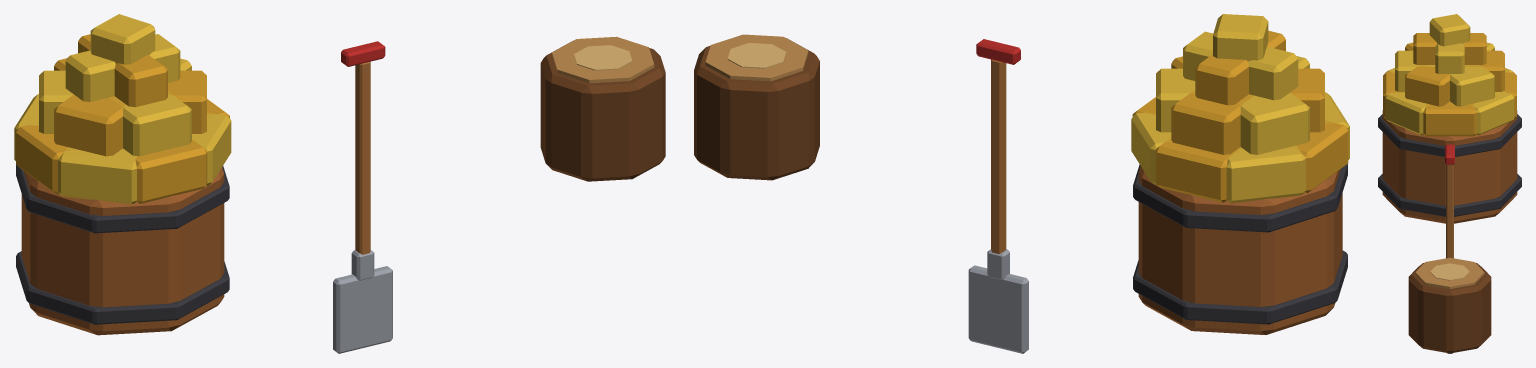
The model's file is style_B.glb.
The picture shows the model from 3 angles, left to right: view 1: azimuth 30°, elevation 25°; view 2: azimuth 150°, elevation 25°; view 3: azimuth 270°, elevation 25°; orthographic projection. The views are drawn at different scales.
Parts seen in each view (by area): view 1: StyleB_HayBarrel, StyleB_Log, StyleB_Shovel; view 2: StyleB_HayBarrel, StyleB_Log, StyleB_Shovel; view 3: StyleB_HayBarrel, StyleB_Log, StyleB_Shovel.
Part boxes in pixels (x1,y1,x2,y2): StyleB_HayBarrel: (14, 14, 231, 335); StyleB_Log: (540, 36, 665, 181); StyleB_Shovel: (333, 41, 392, 353); StyleB_HayBarrel: (1131, 14, 1349, 334); StyleB_Log: (694, 34, 819, 180); StyleB_Shovel: (968, 39, 1028, 353); StyleB_HayBarrel: (1378, 14, 1521, 223); StyleB_Log: (1408, 257, 1491, 353); StyleB_Shovel: (1445, 144, 1454, 353).
Size of the model in its own units: 2.89 by 1.66 by 0.8723.
